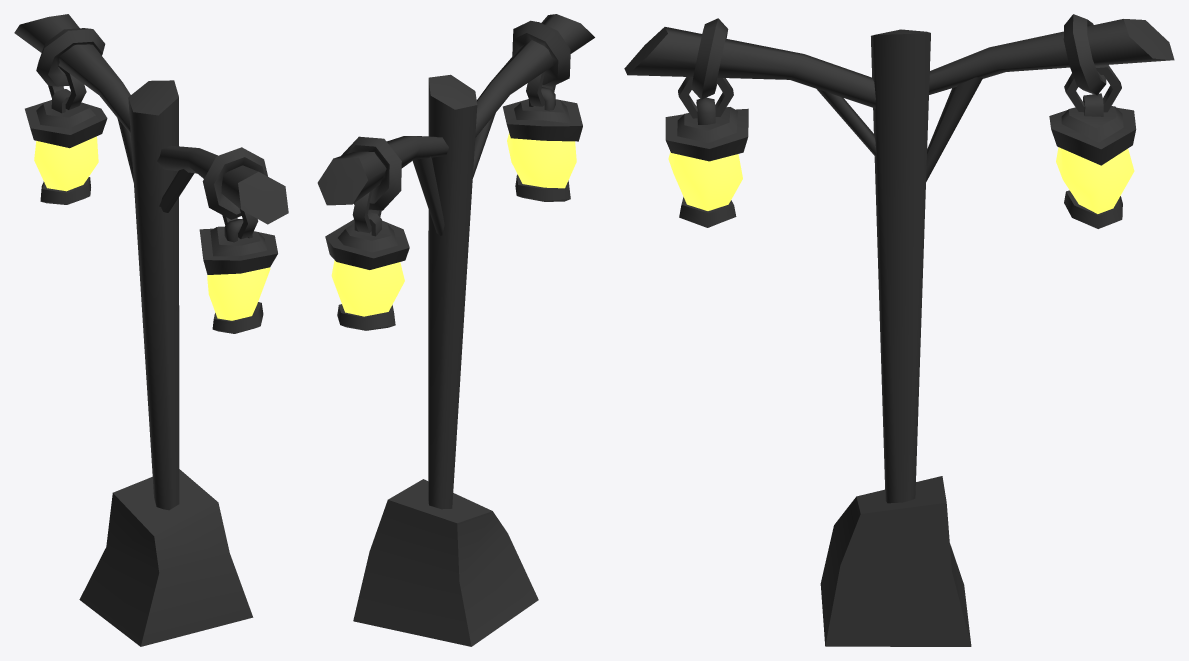
The model's file is SM_PROP_streetlamp_v01_02.FBX.
The picture shows the model from 3 angles, left to right: view 1: azimuth 30°, elevation 25°; view 2: azimuth 150°, elevation 25°; view 3: azimuth 270°, elevation 25°; orthographic projection. The views are drawn at different scales.
Visible parts, largest first — view 1: SM_PROP_streetlamp_v01_02; view 2: SM_PROP_streetlamp_v01_02; view 3: SM_PROP_streetlamp_v01_02.
Part boxes in pixels (<box>): SM_PROP_streetlamp_v01_02: <box>14,14,288,646</box>; SM_PROP_streetlamp_v01_02: <box>317,14,594,646</box>; SM_PROP_streetlamp_v01_02: <box>624,14,1174,646</box>.
Size of the model in its own units: 86.3 by 317 by 376.
